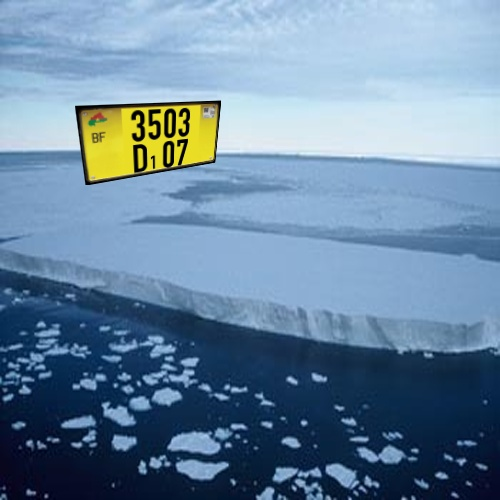plate: (64, 88, 236, 198)
